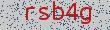4: (65, 2, 79, 26)
b: (50, 1, 66, 24)
g: (79, 3, 96, 25)
r: (22, 2, 38, 27)
s: (37, 3, 51, 25)
